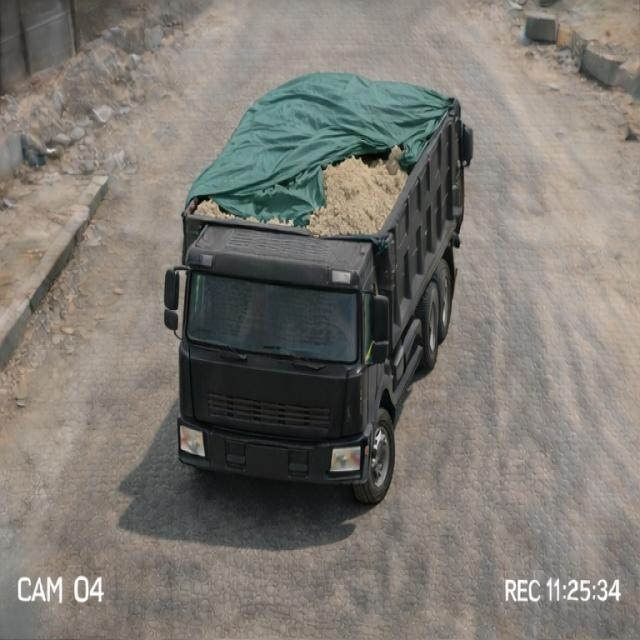trailer: (186, 68, 477, 224)
truck: (163, 47, 488, 506)
